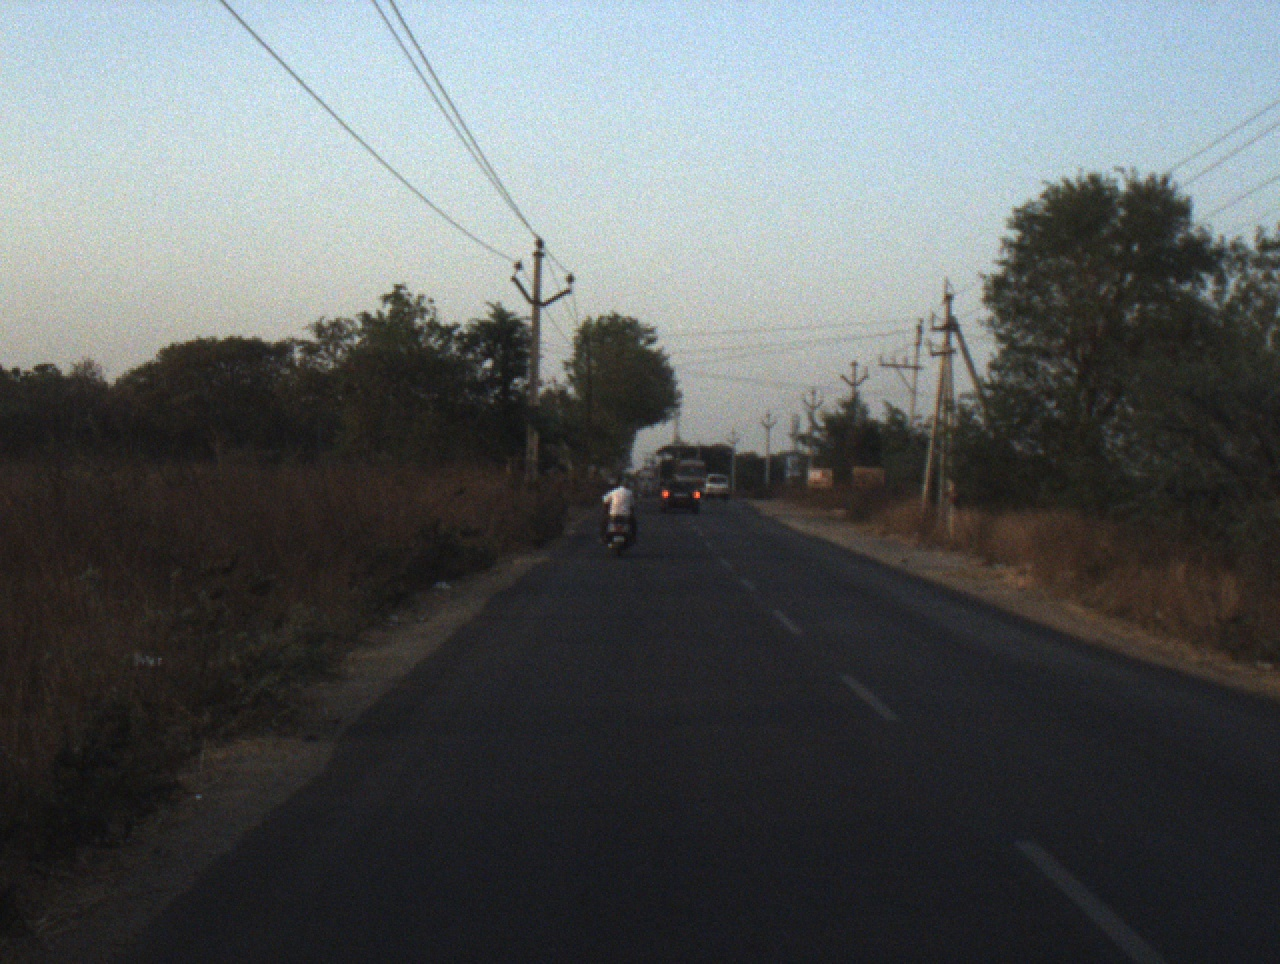car: (656, 477, 703, 517), (696, 468, 734, 505)
motorcycle: (600, 508, 640, 553)
rider: (600, 471, 639, 547)
truck: (657, 452, 706, 486)
vehicle fallback: (632, 468, 656, 497)
